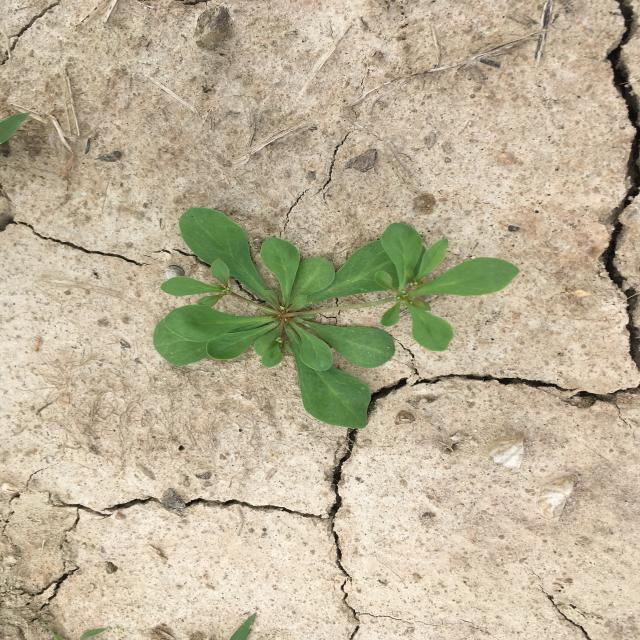Carpetweed: (153, 207, 520, 428)
